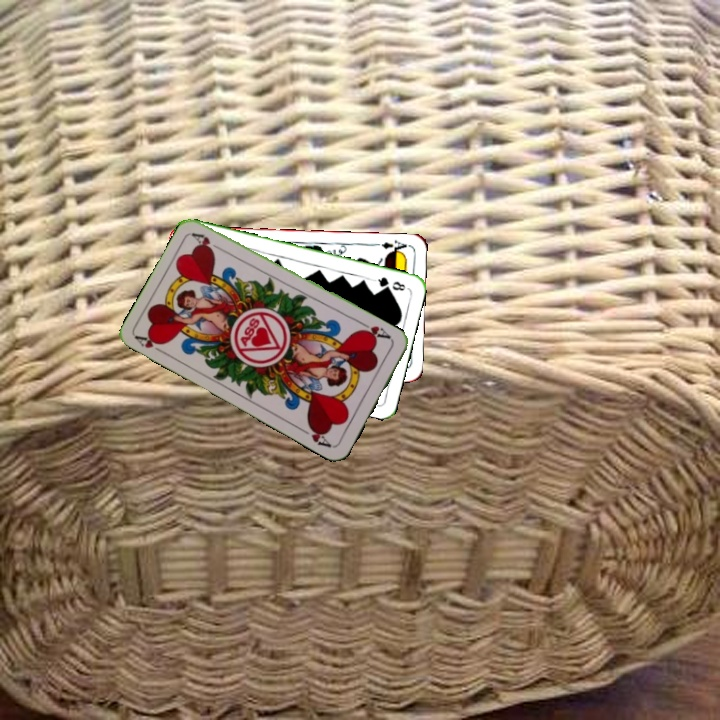EA: (370, 236, 411, 256)
G8: (370, 273, 408, 293)
HA: (132, 330, 170, 357), (354, 318, 394, 343)
